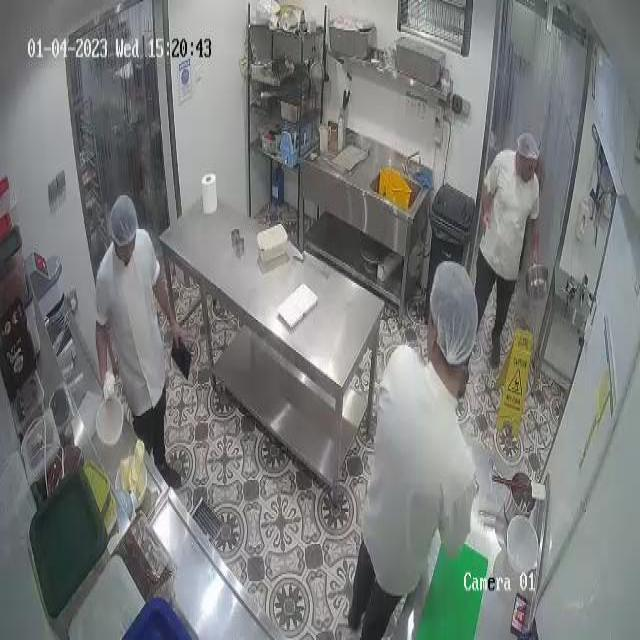hairnet: (432, 259, 477, 359), (111, 195, 137, 242), (516, 132, 538, 160)
